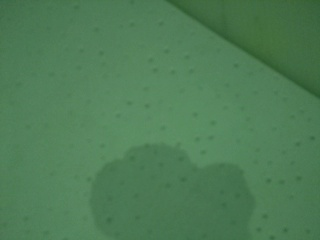Water_detected: (107, 157, 215, 240)
